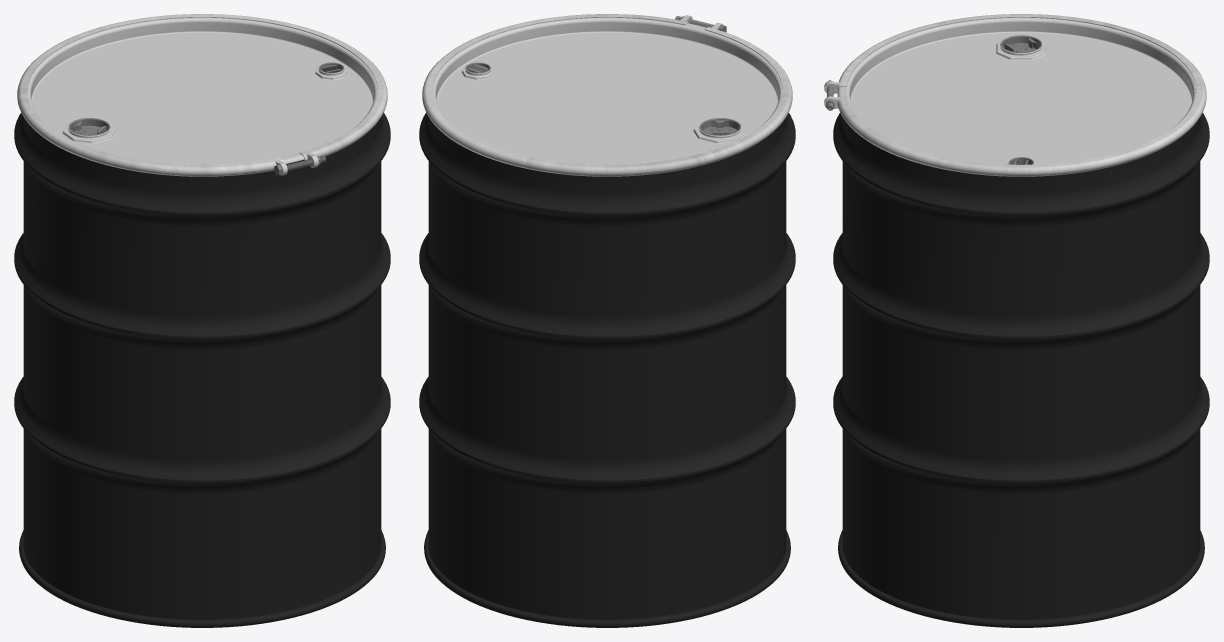
Rendered from drum_steel_a01.glb.
The picture shows the model from 3 angles, left to right: view 1: azimuth 30°, elevation 25°; view 2: azimuth 150°, elevation 25°; view 3: azimuth 270°, elevation 25°; orthographic projection.
Parts seen in each view (by area): view 1: sm_drum_a01_mesh_00, sm_lid_a01_mesh_00; view 2: sm_drum_a01_mesh_00, sm_lid_a01_mesh_00; view 3: sm_drum_a01_mesh_00, sm_lid_a01_mesh_00.
Part boxes in pixels (box(x1,y1,x2,y2)): sm_drum_a01_mesh_00: box(14, 112, 390, 627); sm_lid_a01_mesh_00: box(17, 14, 387, 176); sm_drum_a01_mesh_00: box(419, 112, 795, 627); sm_lid_a01_mesh_00: box(422, 14, 792, 176); sm_drum_a01_mesh_00: box(833, 112, 1209, 627); sm_lid_a01_mesh_00: box(824, 14, 1206, 176).
Bounding box in the file's own units: 0.6419 × 0.8683 × 0.6571.
4 materials, 2 textured.
